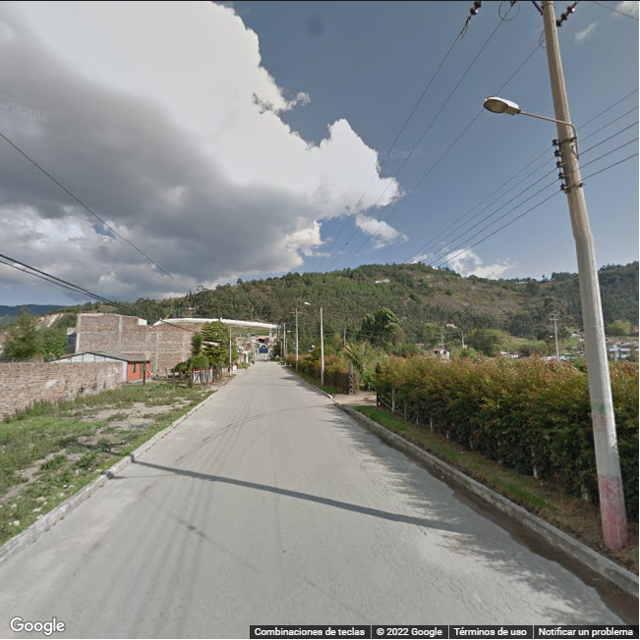D20: (377, 534, 533, 626)
